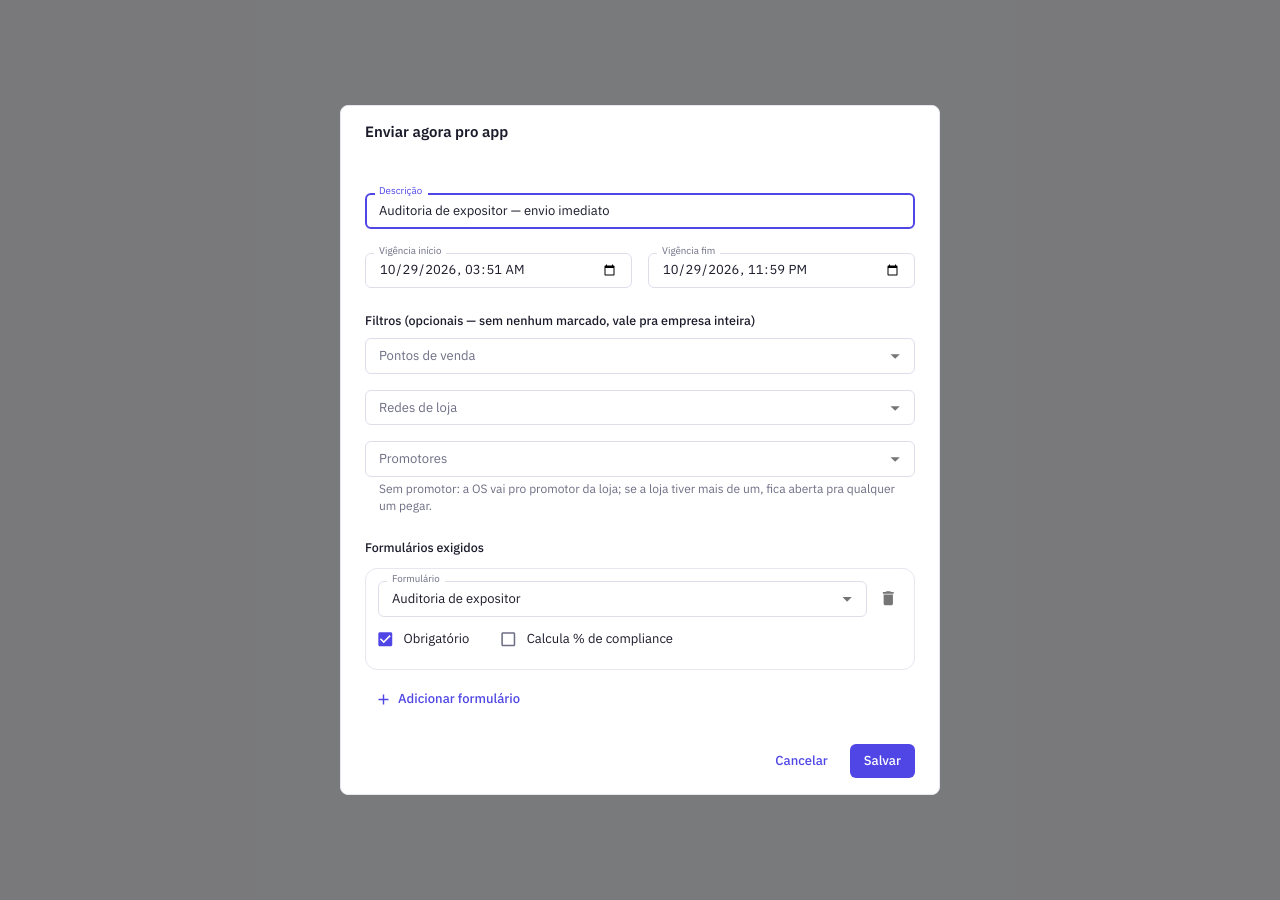
Scenario: DirecionamentoFormDialog — envio imediato › cria e mostra quantas ordens de serviço foram geradas
The width and height of the screenshot is (1280, 900).
Expected: the field showing "Auditoria de expositor — envio imediato" is shown, [365,193,915,229]
Click the button "Salvar". click: click(882, 761)
box: [850,744,915,778]
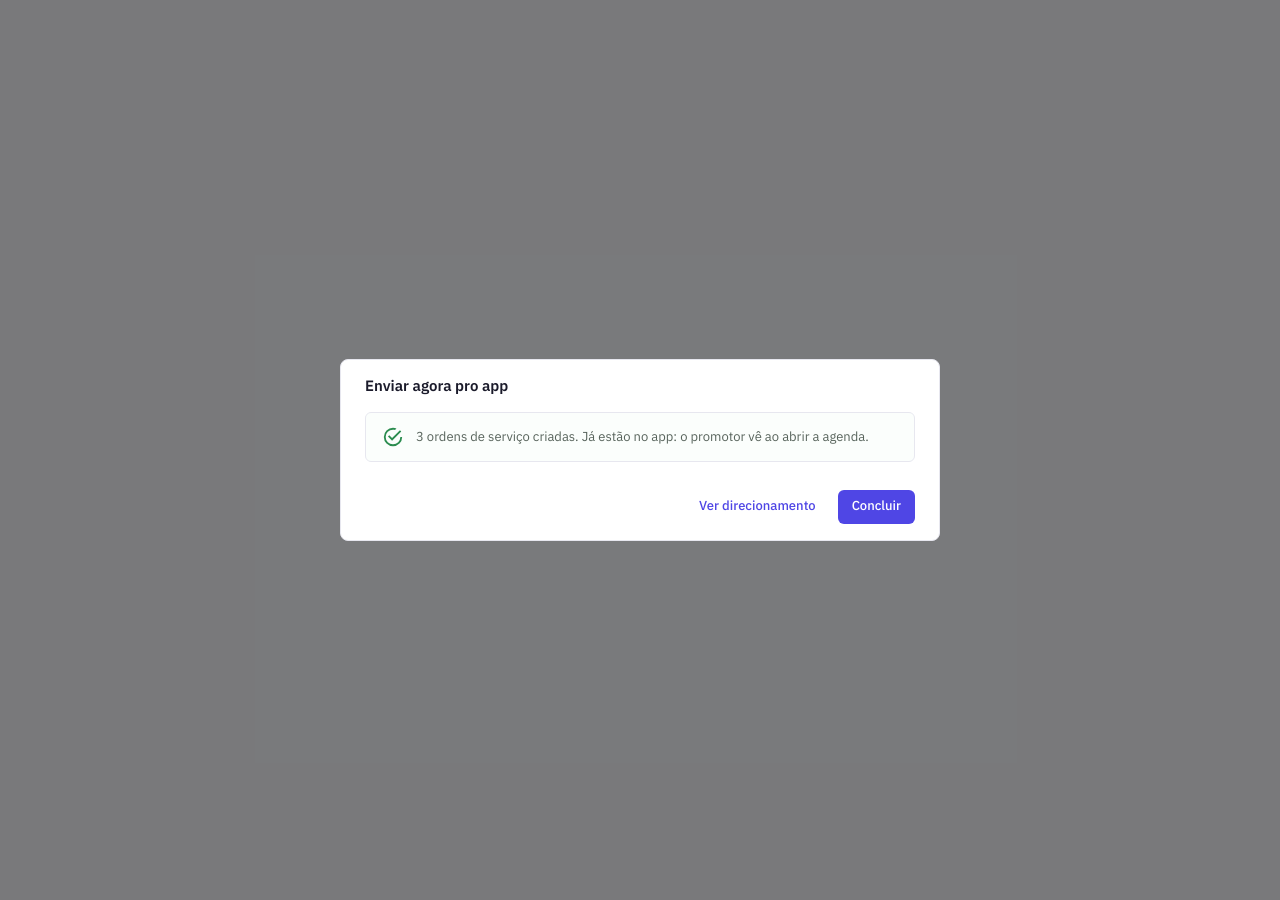
Expected: the text "3 ordens de serviço criadas" is shown, [416,428,579,445]
